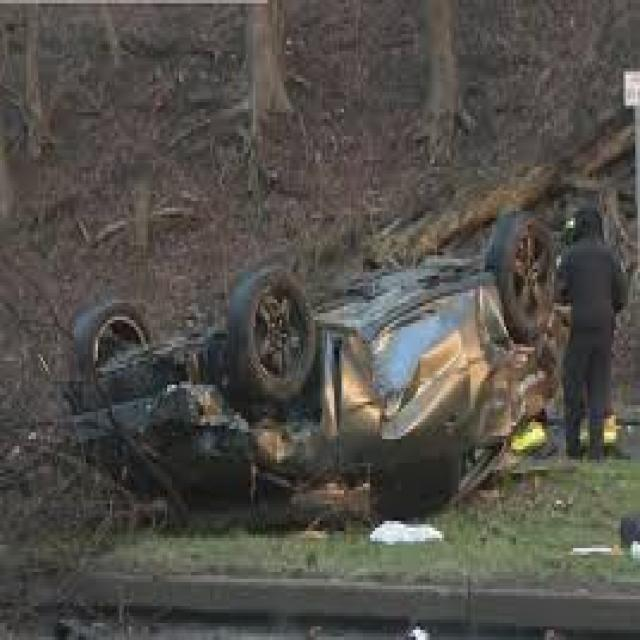accident: (70, 197, 567, 533)
